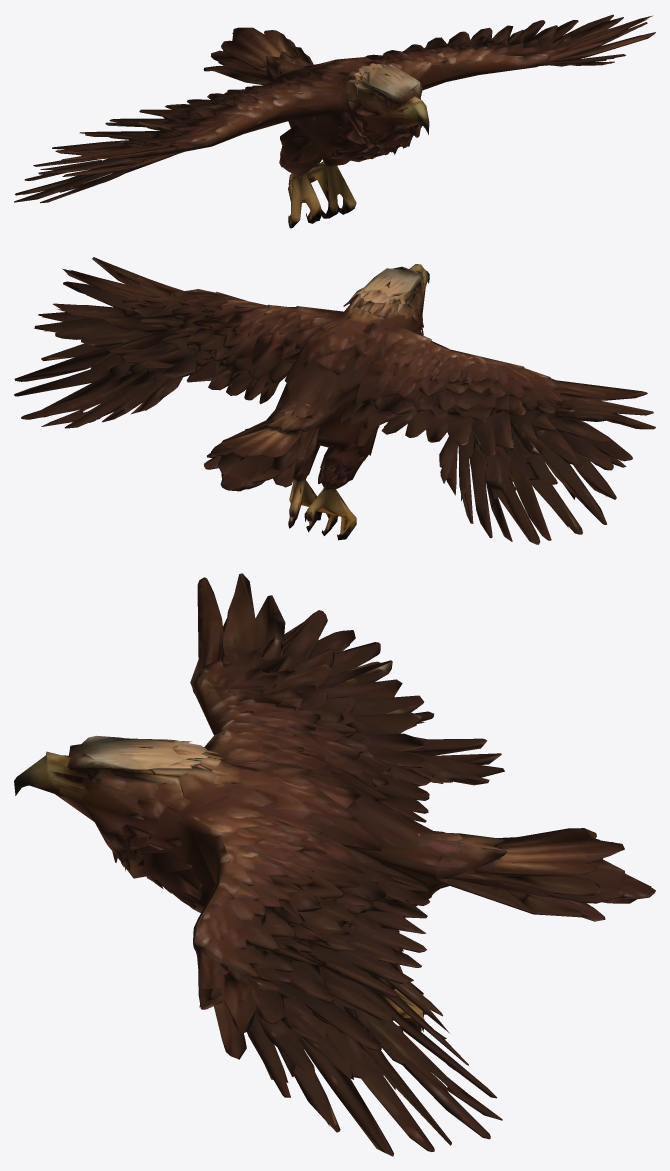
The model's file is animal_eagle.glb.
The picture shows the model from 3 angles, top to bottom: view 1: azimuth 30°, elevation 25°; view 2: azimuth 150°, elevation 25°; view 3: azimuth 270°, elevation 25°; orthographic projection. The views are drawn at different scales.
Parts seen in each view (by area): view 1: world; view 2: world; view 3: world.
Part boxes in pixels (x1,y1,x2,y2): world: (14,14,655,228); world: (14,257,655,544); world: (14,573,655,1156).
Bounding box in the file's own units: 2.1 × 0.6738 × 1.23.
Materials: 1 (1 with a texture image).
